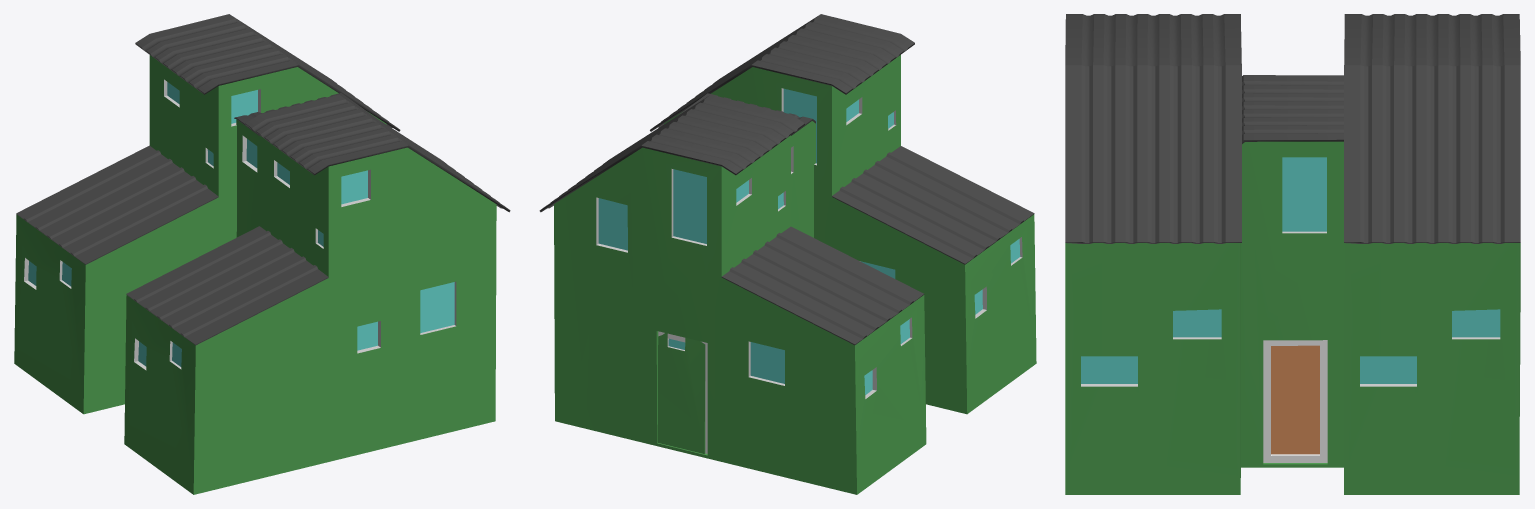
File: Combo favela medium 2.fbx
The picture shows the model from 3 angles, left to right: view 1: azimuth 30°, elevation 25°; view 2: azimuth 150°, elevation 25°; view 3: azimuth 270°, elevation 25°; orthographic projection. The views are drawn at different scales.
Visible parts, largest first — view 1: Medium_Favelahouse.004, Medium_Favelahouse.005, Medium_Favelahouse.003; view 2: Medium_Favelahouse.005, Medium_Favelahouse.004, Medium_Favelahouse.003; view 3: Medium_Favelahouse.005, Medium_Favelahouse.004, Medium_Favelahouse.003.
Boxes of the visible parts, x1,y1,x2,y2 form: Medium_Favelahouse.004: (124,94,510,494); Medium_Favelahouse.005: (14,14,400,414); Medium_Favelahouse.003: (234,93,376,237); Medium_Favelahouse.005: (539,94,926,494); Medium_Favelahouse.004: (650,14,1036,414); Medium_Favelahouse.003: (657,93,815,453); Medium_Favelahouse.005: (1344,14,1520,494); Medium_Favelahouse.004: (1065,14,1241,494); Medium_Favelahouse.003: (1241,75,1343,467).
Size of the model in its own units: 1759 by 1574 by 1728.
